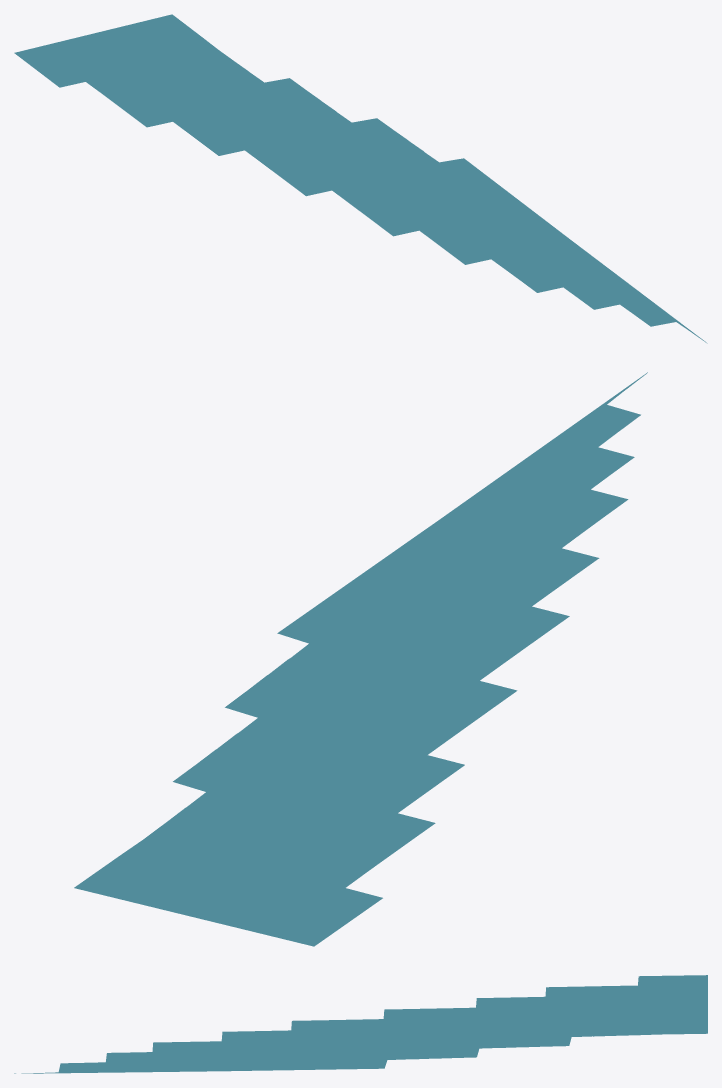
The picture shows the model from 3 angles, top to bottom: view 1: azimuth 30°, elevation 25°; view 2: azimuth 150°, elevation 25°; view 3: azimuth 270°, elevation 25°; orthographic projection. The views are drawn at different scales.
Visible parts, largest first — view 1: prototype; view 2: prototype; view 3: prototype.
Boxes of the visible parts, box(x1,y1,x2,y2) form: prototype: box(14, 14, 707, 343); prototype: box(74, 372, 647, 946); prototype: box(14, 975, 707, 1073).
Bounding box in the file's own units: 18 × 1.03 × 60.05.
